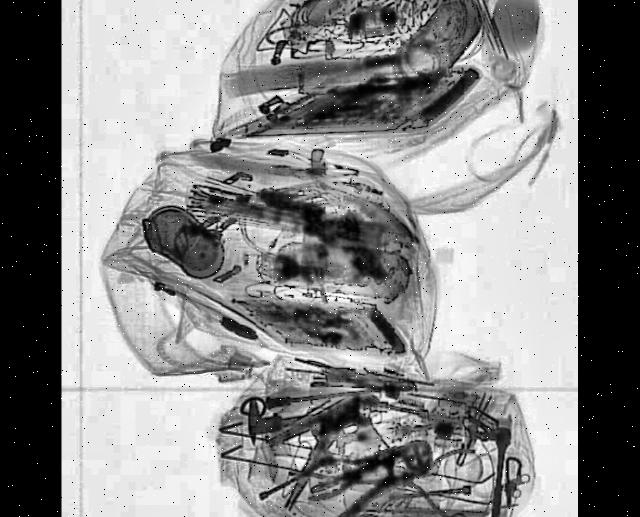Pliers: (320, 418, 439, 517), (300, 444, 376, 509)
